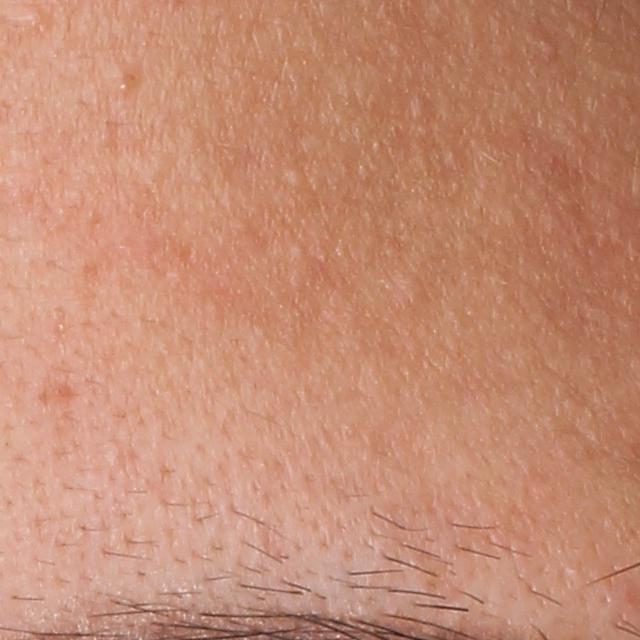comedo: (392, 276, 427, 312), (406, 95, 434, 126), (539, 33, 563, 60), (283, 168, 309, 190), (285, 241, 307, 262)
